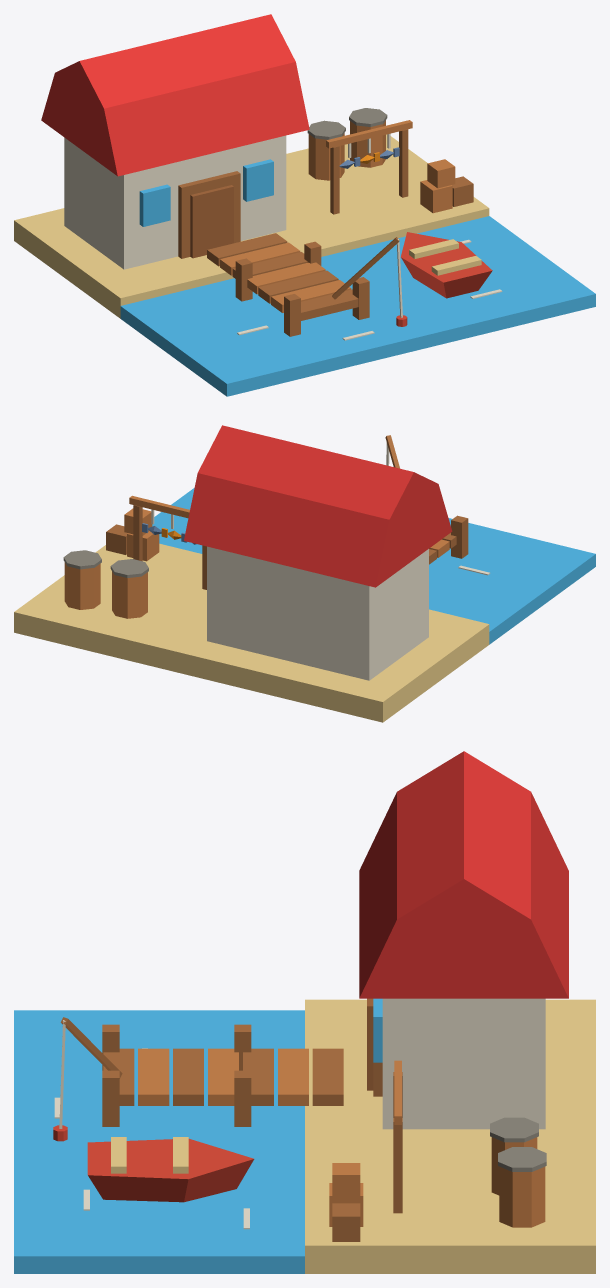
The model's file is fishery_t2_v3.glb.
The picture shows the model from 3 angles, top to bottom: view 1: azimuth 30°, elevation 25°; view 2: azimuth 150°, elevation 25°; view 3: azimuth 270°, elevation 25°; orthographic projection. The views are drawn at different scales.
Parts seen in each view (by area): view 1: fishery_t2_v3; view 2: fishery_t2_v3; view 3: fishery_t2_v3.
Boxes of the visible parts, <box> form: fishery_t2_v3: <box>14,14,595,396</box>; fishery_t2_v3: <box>14,425,595,722</box>; fishery_t2_v3: <box>14,751,595,1273</box>.
Bounding box in the file's own units: 0.75 × 0.41 × 0.75.
Materials: 1 (1 with a texture image).
